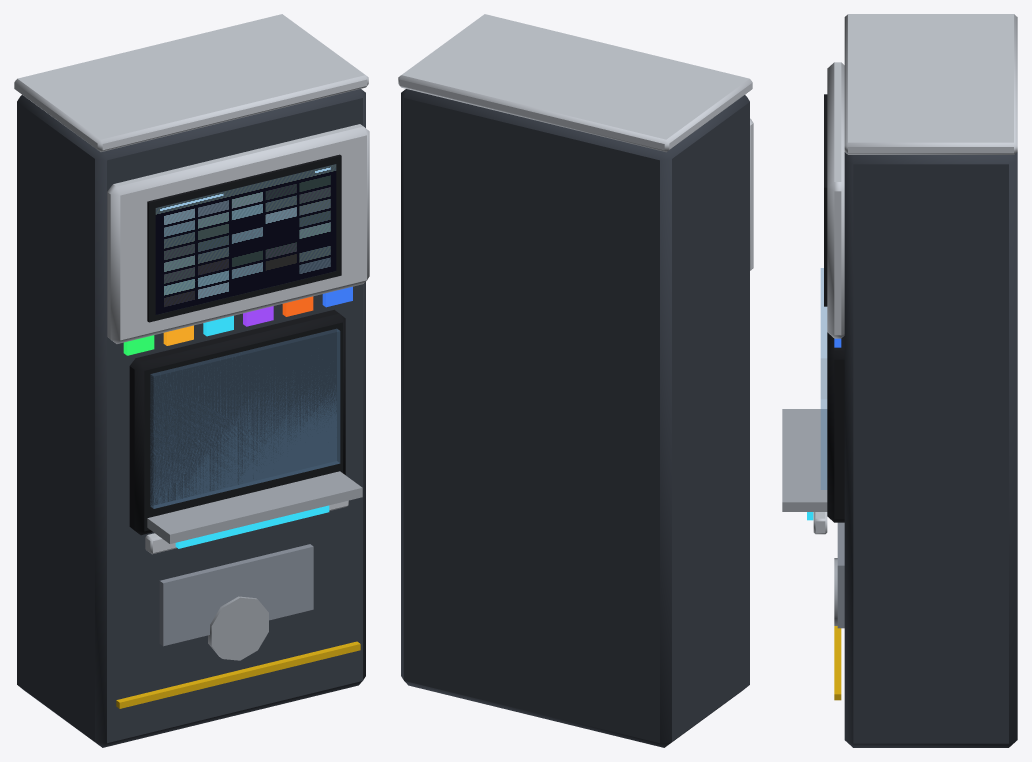
The model's file is galley_food_replicator.glb.
The picture shows the model from 3 angles, left to right: view 1: azimuth 30°, elevation 25°; view 2: azimuth 150°, elevation 25°; view 3: azimuth 270°, elevation 25°; orthographic projection.
Visible parts, largest first — view 1: galley_food_replicator; view 2: galley_food_replicator; view 3: galley_food_replicator.
Boxes of the visible parts, <box> form: galley_food_replicator: <box>14,14,369,747</box>; galley_food_replicator: <box>398,14,753,747</box>; galley_food_replicator: <box>782,14,1017,747</box>.
Bounding box in the file's own units: 0.9 × 1.94 × 0.68.
14 materials, 1 textured.
